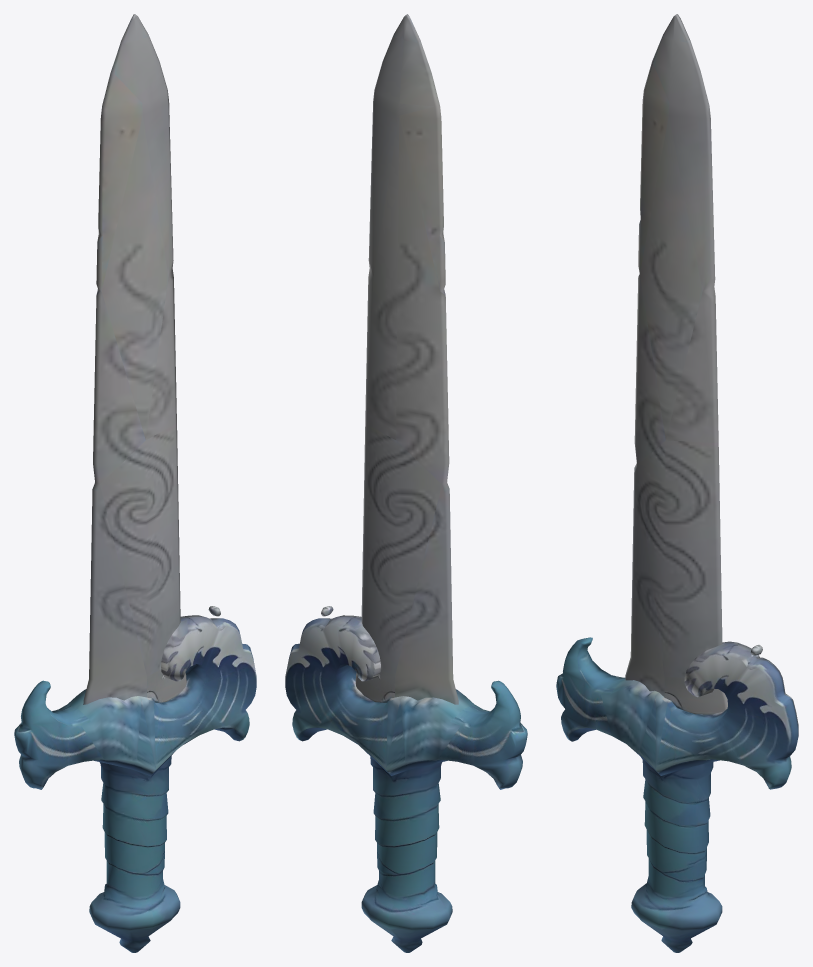
Rendered from squallcrest.glb.
The picture shows the model from 3 angles, left to right: view 1: azimuth 30°, elevation 25°; view 2: azimuth 150°, elevation 25°; view 3: azimuth 330°, elevation 25°; orthographic projection.
Visible parts, largest first — view 1: tripo_node_0df5880e-a876-45be-8960-49ca3e4c8697; view 2: tripo_node_0df5880e-a876-45be-8960-49ca3e4c8697; view 3: tripo_node_0df5880e-a876-45be-8960-49ca3e4c8697.
Boxes of the visible parts, <box> form: tripo_node_0df5880e-a876-45be-8960-49ca3e4c8697: <box>14,14,256,952</box>; tripo_node_0df5880e-a876-45be-8960-49ca3e4c8697: <box>285,14,527,952</box>; tripo_node_0df5880e-a876-45be-8960-49ca3e4c8697: <box>556,14,798,952</box>.
Bounding box in the file's own units: 0.5344 × 2 × 0.1632.
1 material, 1 textured.
